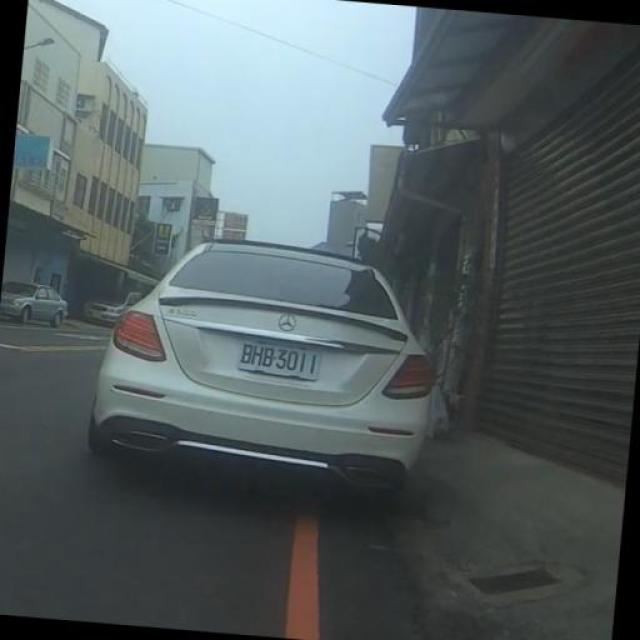illegalparking: (84, 181, 458, 600)
